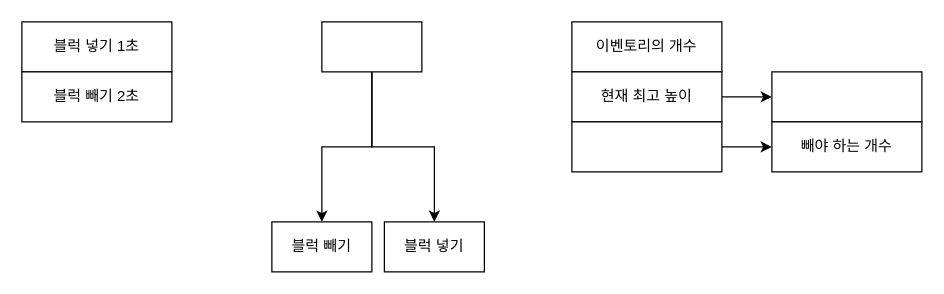
Some shapes in this 944 by 294 pixel diagram are drawn without their labels. Here are the shapes that lost their labels. From the top down, the centre of each, then its label:
At pixel 371 46: "블럭".
At pixel 846 96: "추가 해야하는 개수".
At pixel 646 146: "현재 최저 높이".
